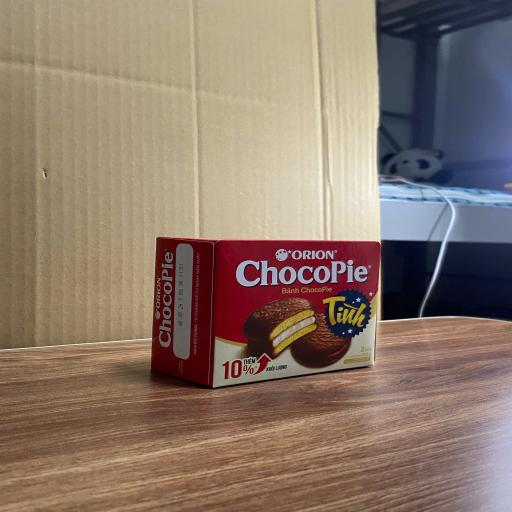chocopie: (149, 238, 382, 388)
